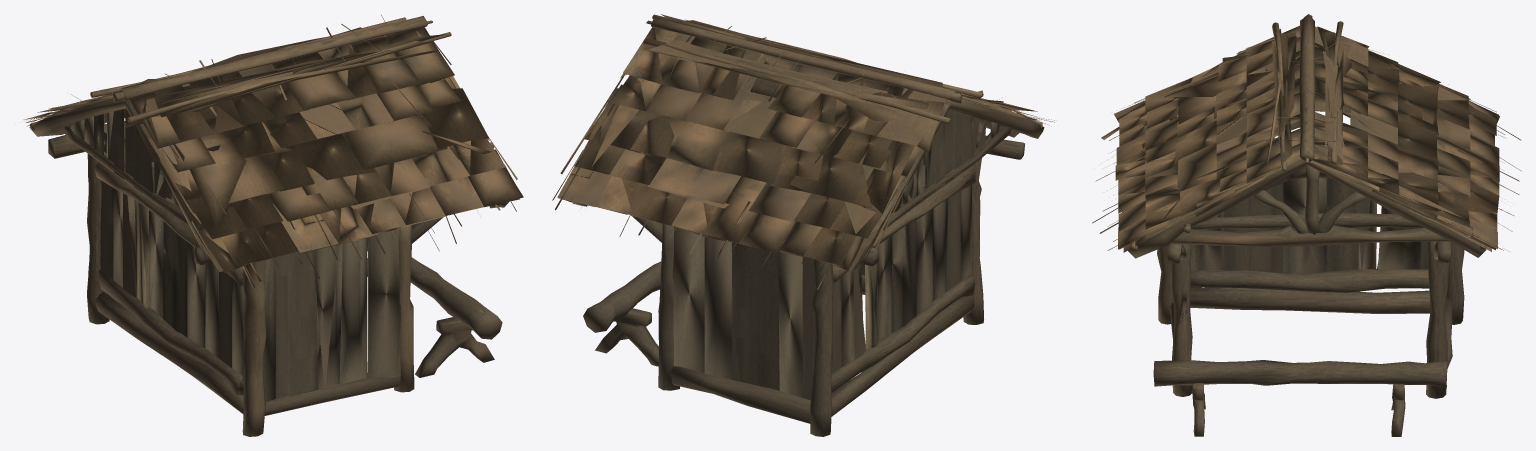
The model's file is hizarhane.glb.
The picture shows the model from 3 angles, left to right: view 1: azimuth 30°, elevation 25°; view 2: azimuth 150°, elevation 25°; view 3: azimuth 270°, elevation 25°; orthographic projection. The views are drawn at different scales.
Size of the model in its own units: 0.7817 by 0.6914 by 0.9521.
1 material, 1 textured.
